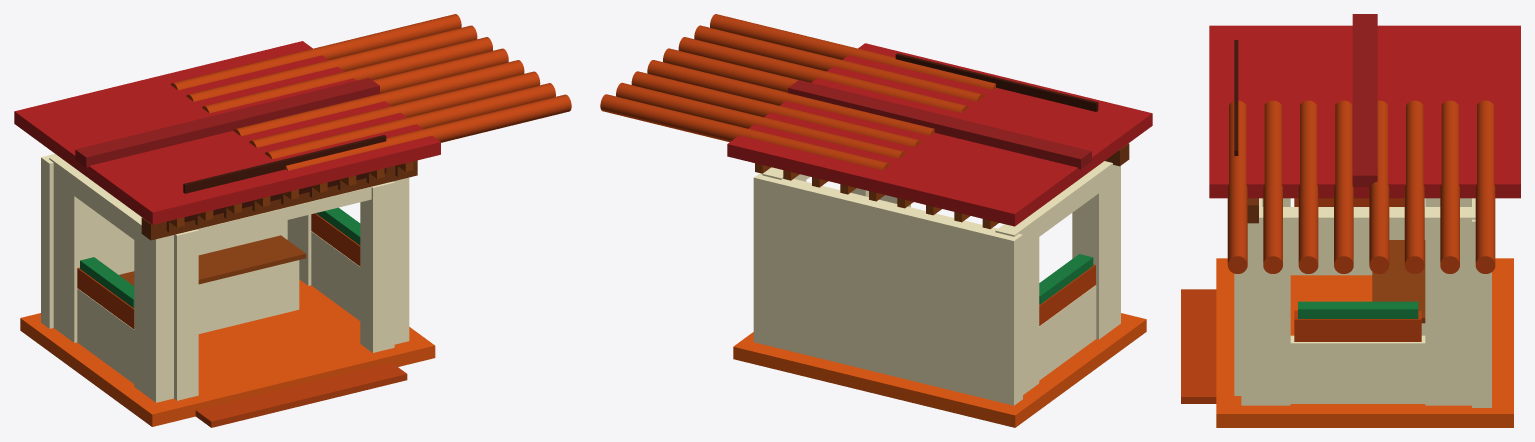
File: booth_03.glb
3 renders of one model, left to right at view 1: azimuth 30°, elevation 25°; view 2: azimuth 150°, elevation 25°; view 3: azimuth 270°, elevation 25°, orthographic. The views are drawn at different scales.
Visible parts, largest first — view 1: barrel_tile_roof, terracotta_base, pier_front_left, med_ridge, front_pillar_right, back_stucco, med_counter, pier_back_left, terracotta_step, front_pillar_left, barrel_tile_0, barrel_tile_6 (+19 smaller); view 2: back_stucco, barrel_tile_roof, terracotta_base, med_ridge, pier_front_left, barrel_tile_7, barrel_tile_2, barrel_tile_5, barrel_tile_1, barrel_tile_6, barrel_tile_4, barrel_tile_0 (+7 smaller); view 3: barrel_tile_roof, terracotta_base, parapet_right, pier_front_right, pier_back_right, med_ridge, terracotta_step, arch_beam_right, barrel_tile_5, barrel_tile_2, barrel_tile_7, barrel_tile_1 (+12 smaller).
Boxes of the visible parts, x1=… form: barrel_tile_roof: x1=14, y1=41, x2=440, y2=224; terracotta_base: x1=20, y1=279, x2=435, y2=426; pier_front_left: x1=134, y1=235, x2=173, y2=402; med_ridge: x1=75, y1=78, x2=379, y2=167; front_pillar_right: x1=360, y1=181, x2=394, y2=352; back_stucco: x1=41, y1=154, x2=287, y2=328; med_counter: x1=198, y1=260, x2=299, y2=333; pier_back_left: x1=53, y1=181, x2=93, y2=342; terracotta_step: x1=195, y1=362, x2=407, y2=427; front_pillar_left: x1=174, y1=229, x2=198, y2=400; barrel_tile_0: x1=285, y1=94, x2=571, y2=170; barrel_tile_6: x1=186, y1=25, x2=477, y2=101; back_stucco: x1=753, y1=173, x2=1022, y2=405; barrel_tile_roof: x1=727, y1=43, x2=1152, y2=226; terracotta_base: x1=733, y1=313, x2=1146, y2=427; med_ridge: x1=788, y1=80, x2=1091, y2=169; pier_front_left: x1=1080, y1=166, x2=1120, y2=339; barrel_tile_7: x1=600, y1=94, x2=890, y2=170; barrel_tile_2: x1=678, y1=37, x2=968, y2=112; barrel_tile_5: x1=631, y1=71, x2=921, y2=147; barrel_tile_1: x1=694, y1=25, x2=984, y2=101; barrel_tile_6: x1=616, y1=82, x2=905, y2=158; barrel_tile_4: x1=647, y1=60, x2=934, y2=135; barrel_tile_0: x1=710, y1=14, x2=995, y2=89; barrel_tile_roof: x1=1209, y1=25, x2=1520, y2=198; terracotta_base: x1=1216, y1=258, x2=1513, y2=427; parapet_right: x1=1290, y1=335, x2=1425, y2=403; pier_front_right: x1=1241, y1=219, x2=1290, y2=405; pier_back_right: x1=1425, y1=219, x2=1471, y2=405; med_ridge: x1=1352, y1=14, x2=1377, y2=186; terracotta_step: x1=1181, y1=289, x2=1216, y2=403; arch_beam_right: x1=1248, y1=207, x2=1475, y2=239; barrel_tile_5: x1=1404, y1=100, x2=1424, y2=273; barrel_tile_2: x1=1298, y1=100, x2=1318, y2=273; barrel_tile_7: x1=1475, y1=100, x2=1495, y2=273; barrel_tile_1: x1=1263, y1=100, x2=1282, y2=273.
Size of the model in its own units: 7.9 by 3.98 by 4.8.
